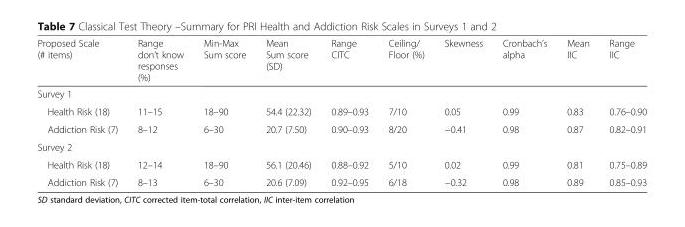table: (36, 37, 646, 187)
table column: (36, 37, 127, 187), (127, 37, 193, 187), (255, 37, 320, 187), (492, 37, 556, 187), (193, 37, 255, 187), (433, 37, 492, 187), (320, 37, 377, 187), (377, 37, 433, 187), (598, 37, 646, 187), (556, 37, 598, 187)
table column header: (36, 37, 646, 85)
table projected row header: (36, 137, 646, 155), (36, 85, 646, 102)
table row: (36, 37, 646, 85), (36, 119, 646, 137), (36, 137, 646, 155), (36, 85, 646, 102), (36, 102, 646, 119), (36, 155, 646, 172), (36, 172, 646, 187)
